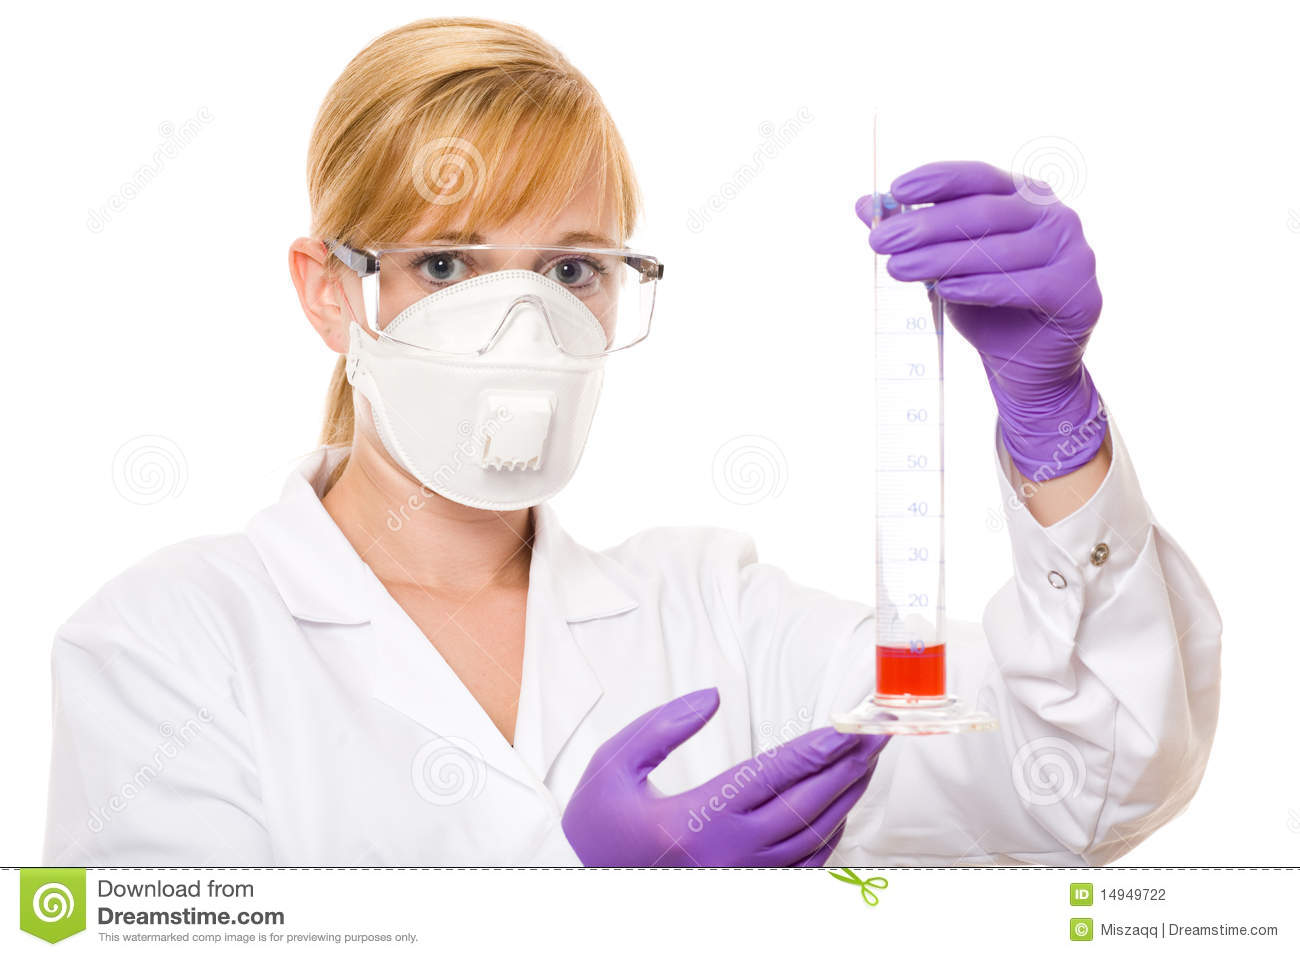mask: (360, 273, 620, 505)
